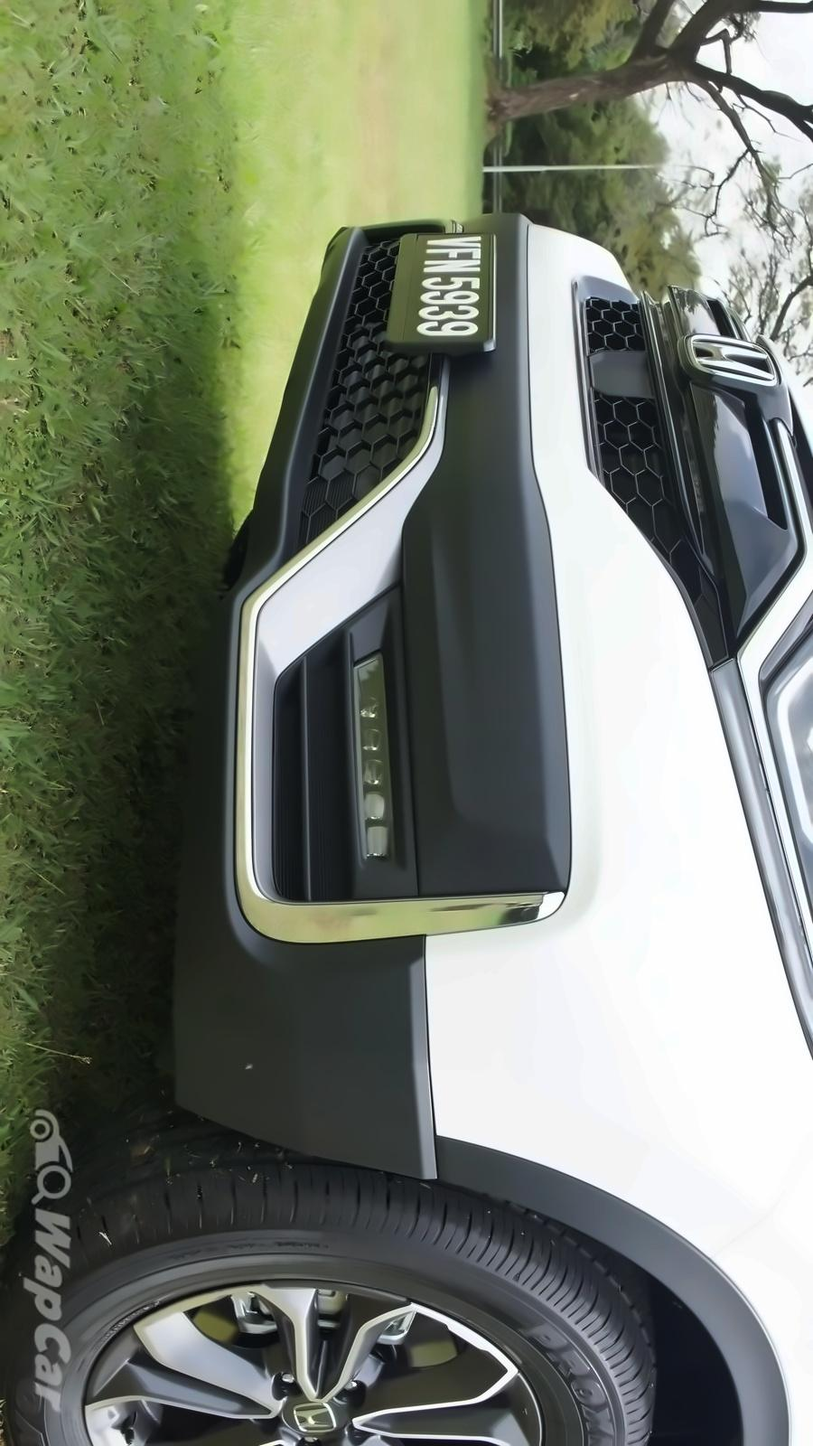Front bumper: (136, 195, 762, 1446)
Headlight - -L-: (703, 534, 813, 1106)
